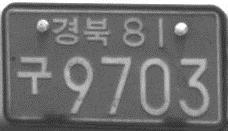0: (139, 56, 170, 116)
1: (154, 16, 167, 48)
3: (177, 55, 210, 118)
7: (100, 54, 133, 117)
8: (122, 16, 145, 46)
9: (63, 55, 94, 114)
경북_O: (50, 15, 110, 47)
구: (15, 55, 53, 94)
